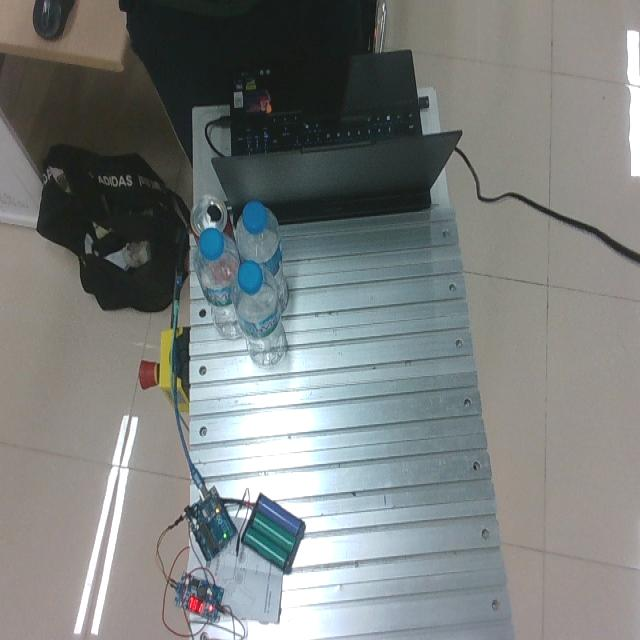coca: (235, 203, 291, 316), (189, 195, 229, 241)
lavie: (232, 258, 287, 366), (193, 224, 243, 339)
